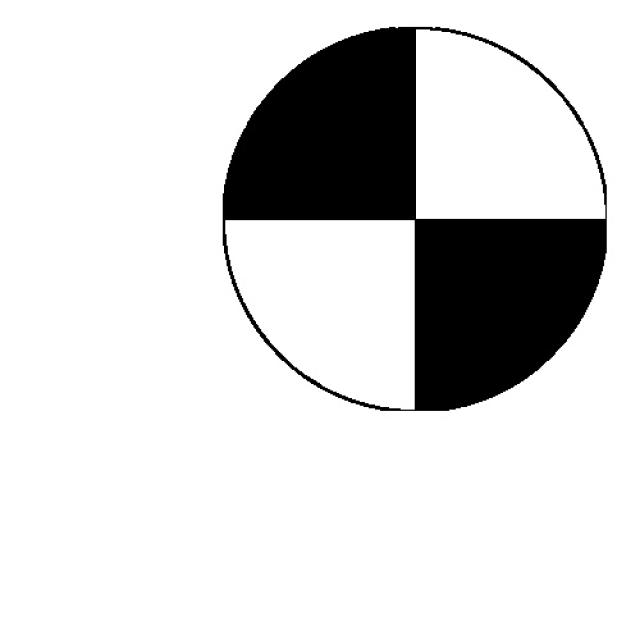Marcadores: (225, 27, 604, 411)
